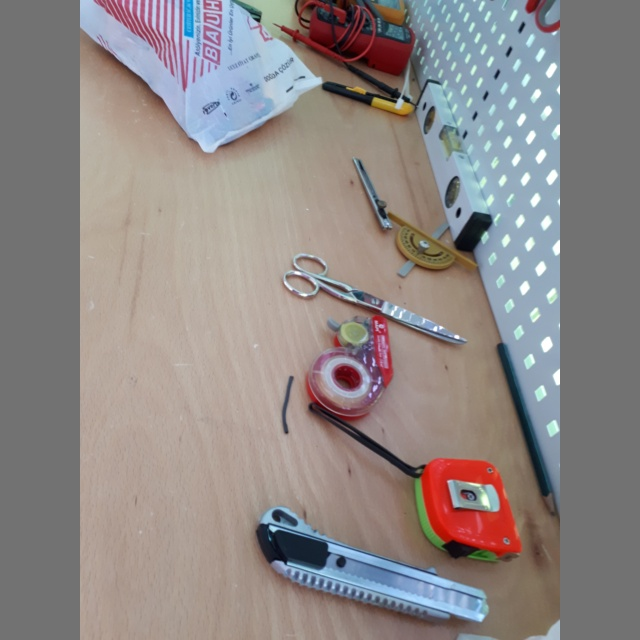scissor: (275, 249, 469, 348)
